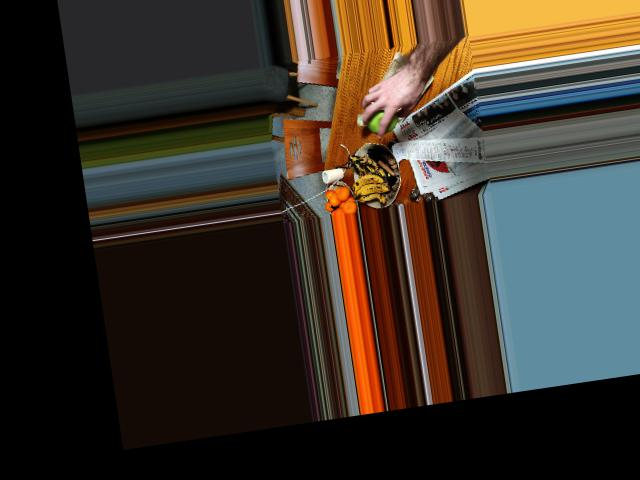apple: (362, 97, 401, 136)
